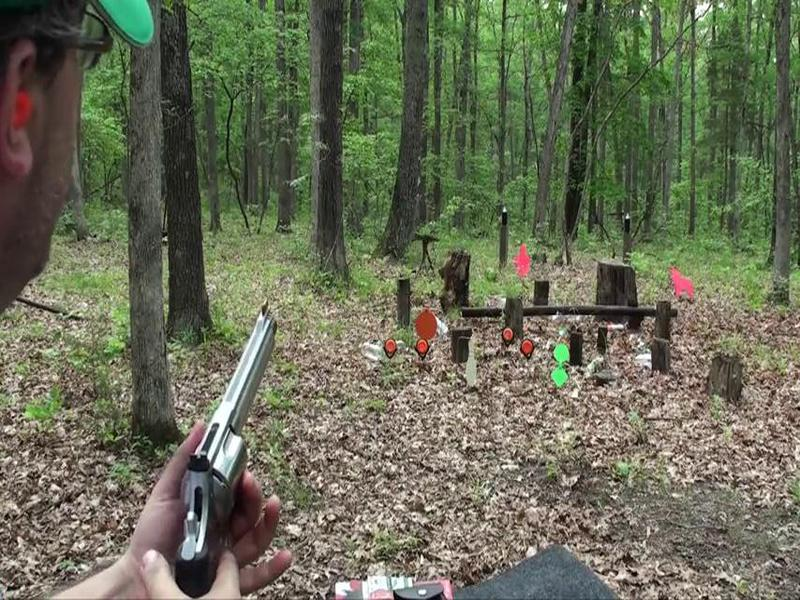Revolver: (141, 294, 290, 594)
